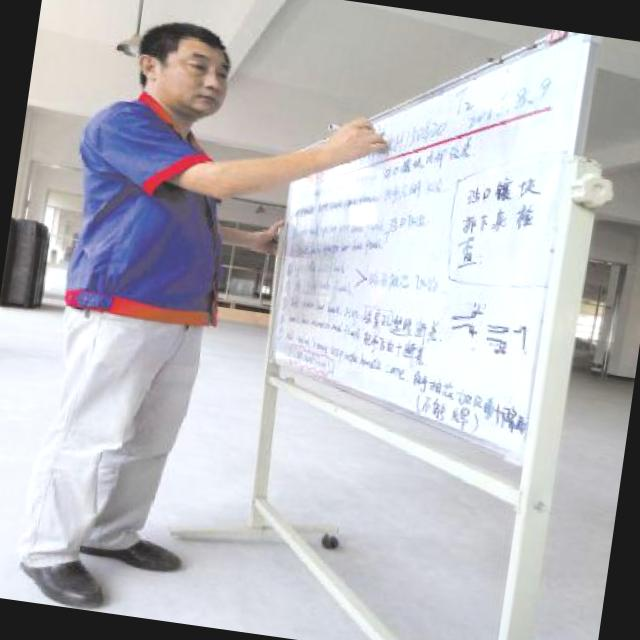Person: (16, 4, 314, 625)
